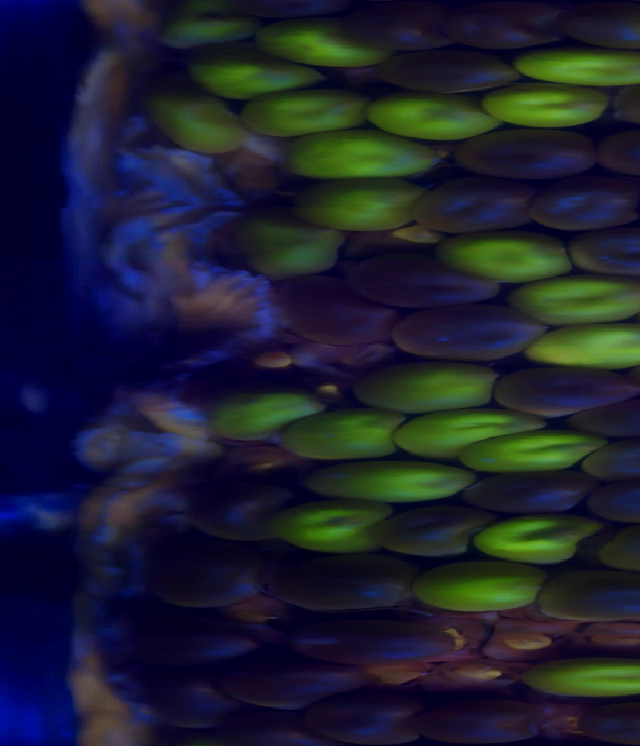fluorescent: (205, 387, 324, 452), (393, 408, 525, 458), (299, 184, 424, 236), (364, 95, 499, 143), (376, 358, 496, 411), (483, 510, 584, 571), (245, 97, 371, 142), (447, 240, 580, 282), (279, 505, 384, 558), (408, 568, 547, 608), (522, 653, 640, 700), (524, 278, 640, 324), (479, 89, 600, 133), (284, 411, 393, 458), (541, 318, 640, 369), (271, 31, 393, 72), (157, 91, 242, 149), (253, 221, 342, 276), (522, 53, 640, 94), (197, 56, 309, 97), (299, 143, 441, 175), (467, 437, 599, 471), (316, 466, 470, 495), (170, 7, 253, 50)
nonfluorescent: (179, 460, 277, 552), (245, 552, 410, 601), (351, 243, 477, 307), (421, 688, 549, 746), (463, 131, 602, 184), (270, 275, 383, 340), (541, 562, 640, 630), (361, 607, 460, 672), (155, 529, 244, 601), (303, 689, 419, 740), (493, 366, 605, 418), (264, 602, 355, 666), (219, 652, 351, 695), (421, 182, 531, 233), (402, 316, 534, 358), (326, 1, 425, 55), (468, 472, 580, 518), (534, 182, 635, 233), (382, 502, 477, 556), (386, 53, 503, 94), (441, 1, 528, 46), (147, 611, 250, 647), (137, 675, 219, 720), (550, 7, 640, 47), (213, 713, 312, 746), (580, 695, 640, 746), (564, 234, 640, 272), (583, 394, 640, 443), (599, 475, 640, 526), (587, 445, 640, 482), (602, 133, 640, 175), (606, 527, 640, 571)
